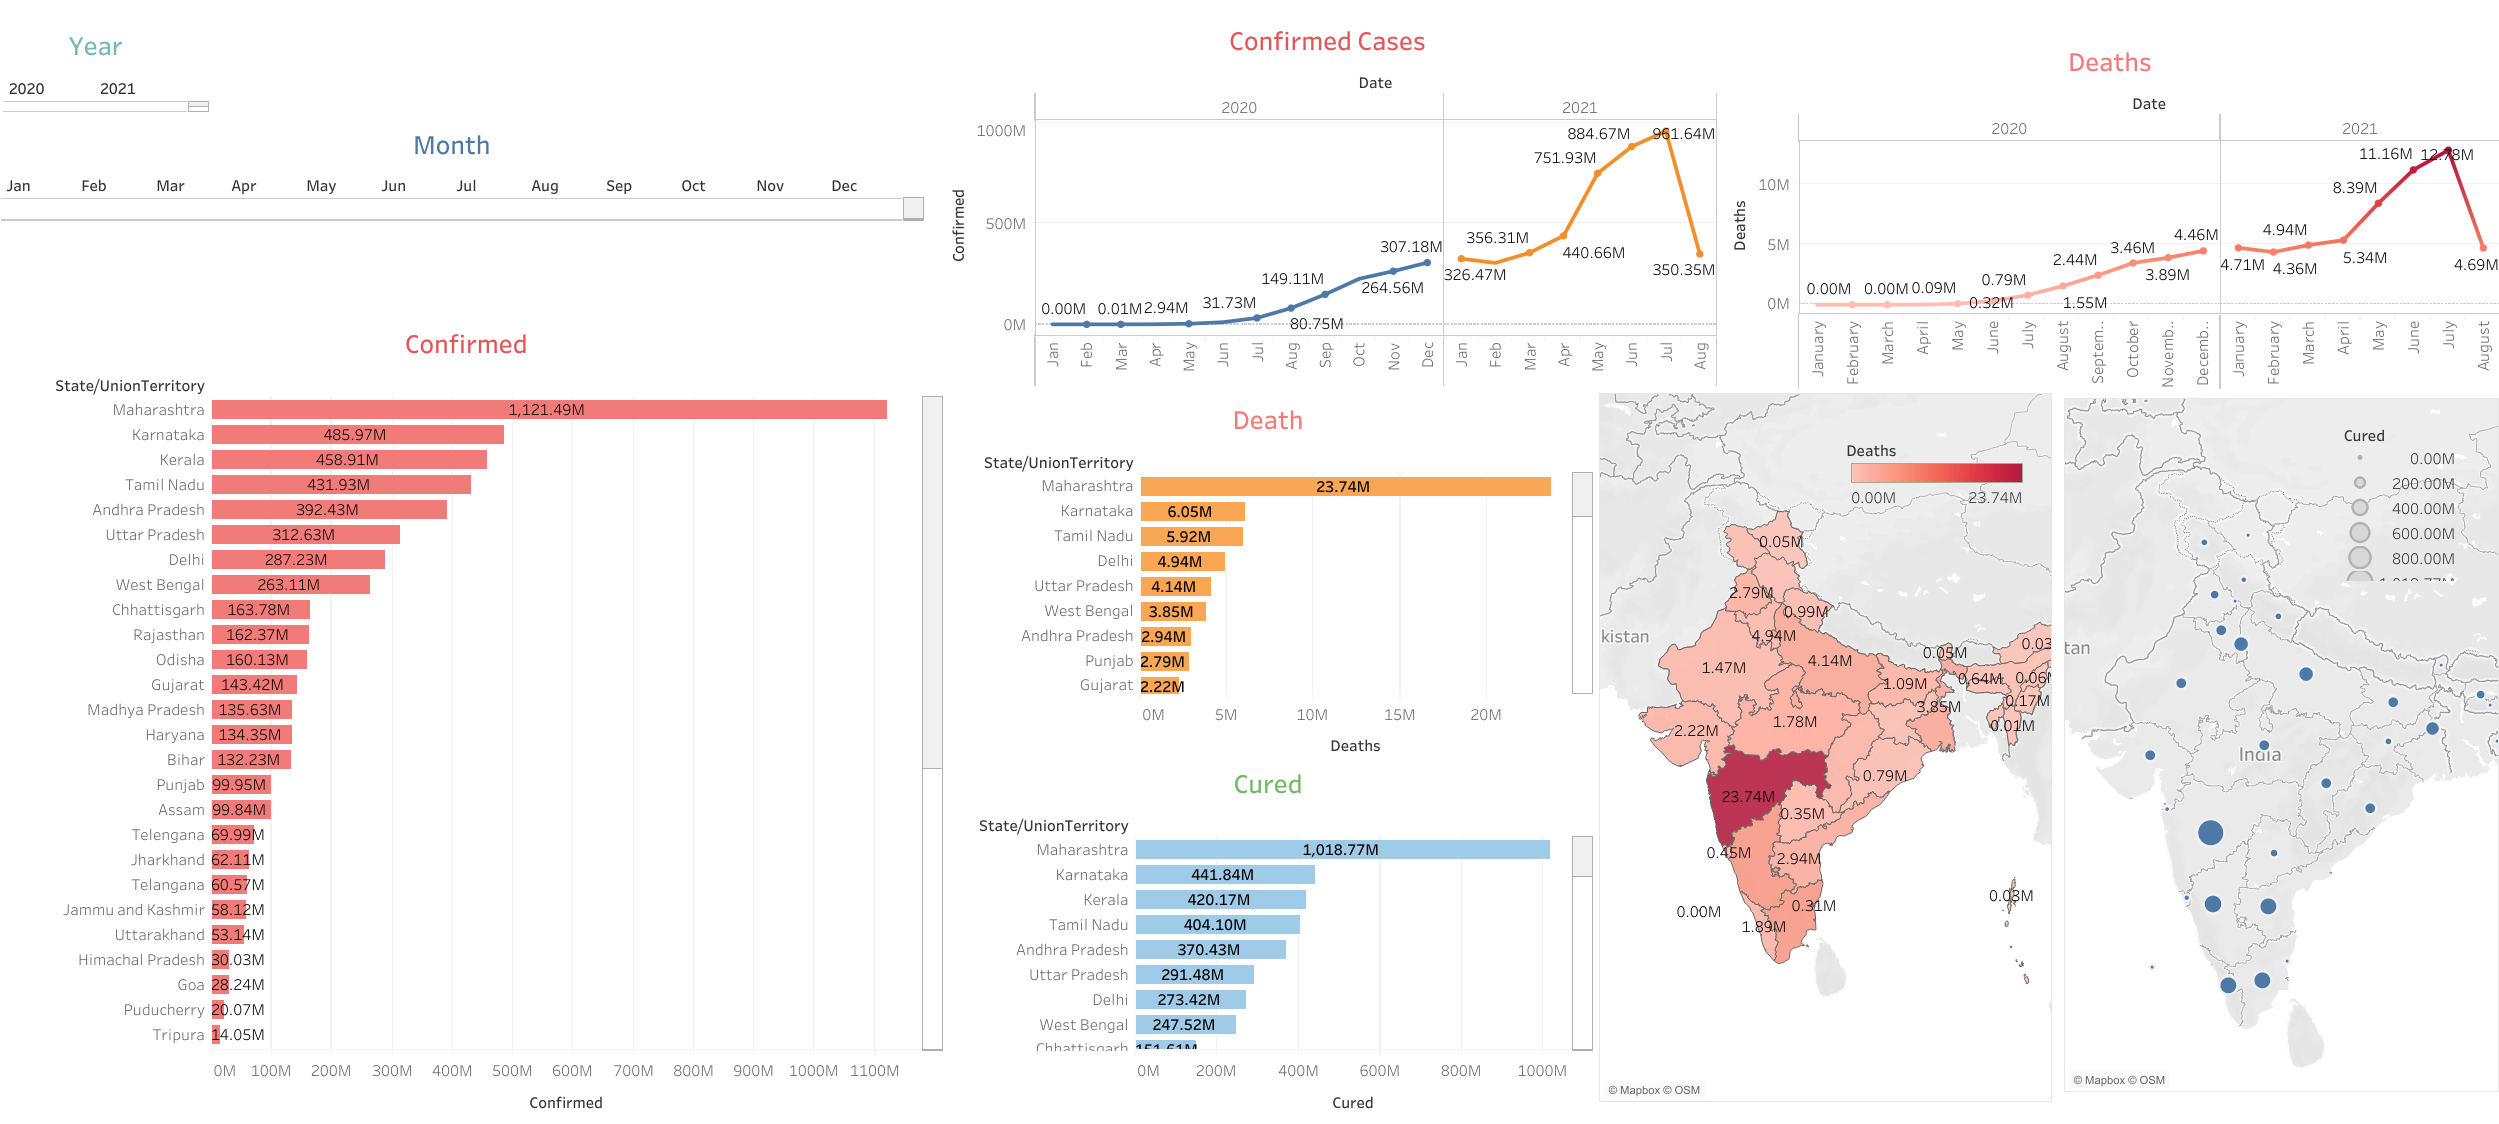

The page's visual inventory and layout, read from the dashboard file:
{"tool":"tableau","page":{"name":"Dashboard 1","canvas":[1000,1000],"units":"permille","ordinal":0},"visuals":[{"type":"worksheet","title":"confirmed cases","mark":"Line","rows":["Confirmed"],"cols":["Date","Date"],"box":[375,13.3,312,330]},{"type":"worksheet","title":"Year","mark":"Automatic","cols":["Date"],"box":[1.5,17.8,102.5,82.2]},{"type":"worksheet","title":"Deaths","mark":"Automatic","rows":["Deaths"],"cols":["Date","Date"],"box":[687.5,32.2,313,314.4]},{"type":"worksheet","title":"Month","mark":"Automatic","cols":["Date"],"box":[0.5,105.6,375.5,91.1]},{"type":"worksheet","title":"Confirmed","mark":"Automatic","rows":["State/UnionTerritory"],"cols":["Confirmed"],"box":[4.5,282.2,373,714.4]},{"type":"worksheet","title":"State Indentification(Deaths)","mark":"Automatic","box":[639.5,348.9,181.5,631.1]},{"type":"worksheet","title":"Death1","mark":"Automatic","rows":["State/UnionTerritory"],"cols":["Deaths"],"box":[386,350,251.5,330]},{"type":"worksheet","title":"State Indentification(Cured)","mark":"Automatic","box":[825.5,353.3,174.5,617.8]},{"type":"legend","title":"State Indentification(Cured)","param":"[federated.0l2cjiq0oax7k919h06fc0604m9f].[sum:Cured:qk]","box":[937,374.4,60,142.2]},{"type":"legend","title":"State Indentification(Deaths)","param":"[federated.0l2cjiq0oax7k919h06fc0604m9f].[sum:Deaths:qk]","box":[738.5,385.6,73,75.6]},{"type":"worksheet","title":"cure1","mark":"Automatic","rows":["State/UnionTerritory"],"cols":["Cured"],"box":[386,673.3,251.5,323.3]}]}

Visuals, with their boxes on the dashboard's canvas, which has no fixed pixel size, in thousandths of its width and height (x1, y1, x2, y2). These are canvas units, not pixel positions in the 2499x1124 screenshot, which may show the page scaled, cropped or inside an application window:
"confirmed cases" worksheet (Line marks): locate(375, 13, 687, 343)
"Year" worksheet: locate(2, 18, 104, 100)
"Deaths" worksheet: locate(688, 32, 1000, 347)
"Month" worksheet: locate(0, 106, 376, 197)
"Confirmed" worksheet: locate(4, 282, 378, 997)
"State Indentification(Deaths)" worksheet: locate(640, 349, 821, 980)
"Death1" worksheet: locate(386, 350, 638, 680)
"State Indentification(Cured)" worksheet: locate(826, 353, 1000, 971)
"State Indentification(Cured)" legend: locate(937, 374, 997, 517)
"State Indentification(Deaths)" legend: locate(738, 386, 812, 461)
"cure1" worksheet: locate(386, 673, 638, 997)
